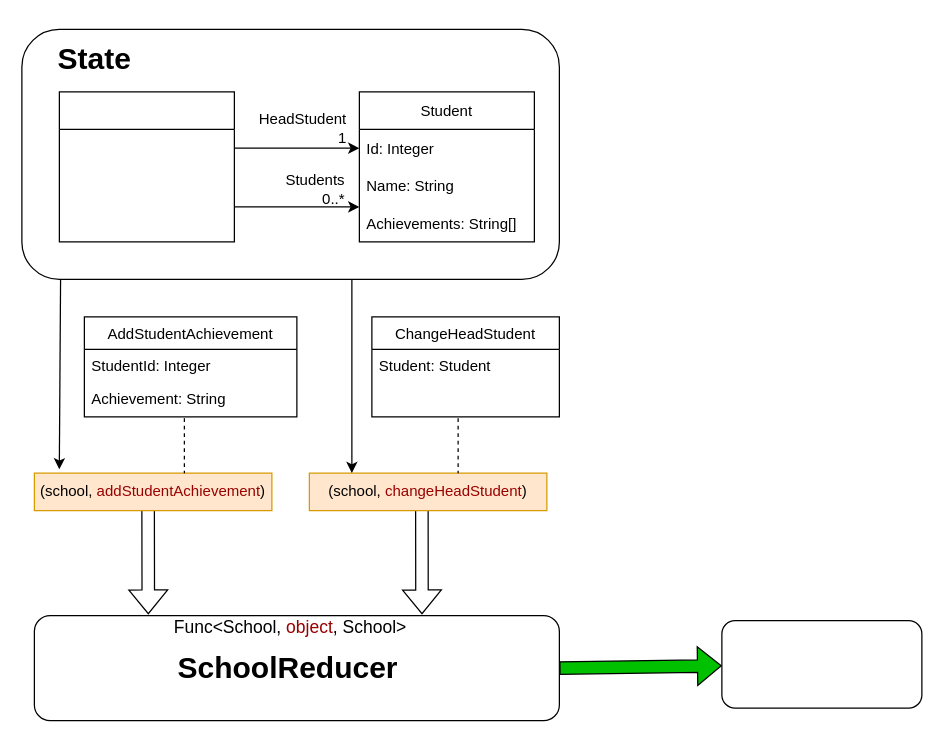
Image size: 944x743. Some labels were removed from this diagram. The centre of each missing label's shape, as x and y in pixels:
"New state" goes at pixel 821 663.
"School" goes at pixel 146 166.
